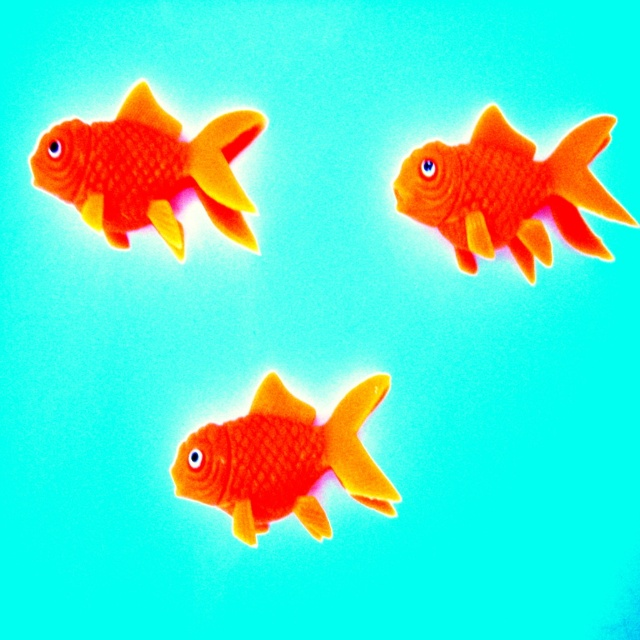Goldfish: (389, 105, 640, 284), (31, 82, 268, 265), (169, 372, 400, 543)
